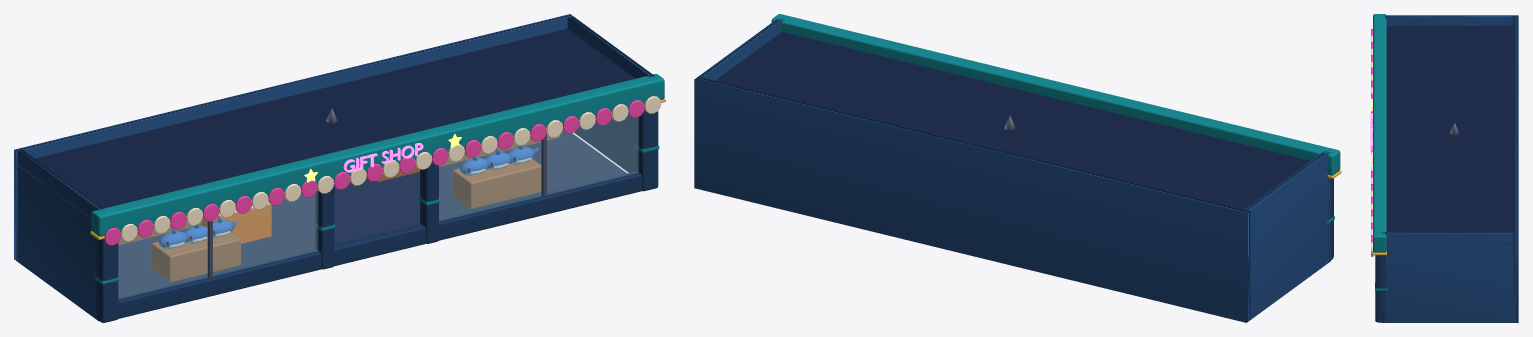
Rendered from aqua_gift_shop.glb.
3 renders of one model, left to right at view 1: azimuth 30°, elevation 25°; view 2: azimuth 150°, elevation 25°; view 3: azimuth 270°, elevation 25°, orthographic. The views are drawn at different scales.
Visible parts, largest first — view 1: GiftShop; view 2: GiftShop; view 3: GiftShop.
Boxes of the visible parts, left/top/right/bottom form: GiftShop: left=14, top=14, right=665, bottom=322; GiftShop: left=694, top=14, right=1341, bottom=322; GiftShop: left=1370, top=14, right=1518, bottom=322.
Bounding box in the file's own units: 17.34 × 3.27 × 4.86.
